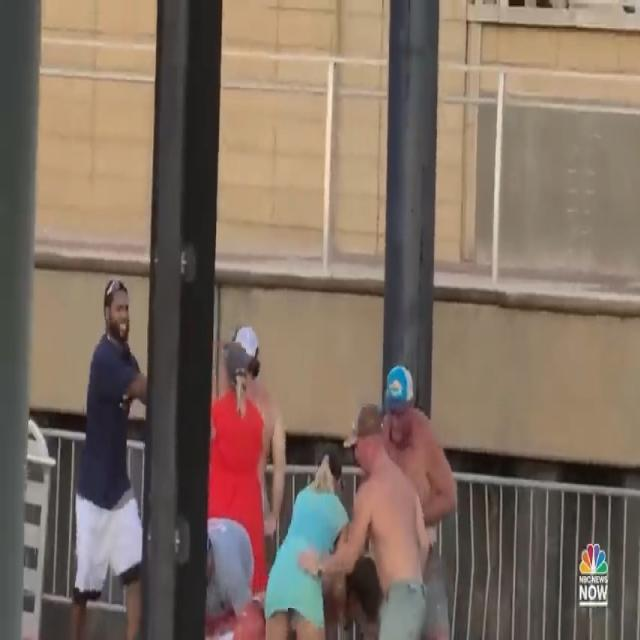fight: (69, 271, 457, 640)
